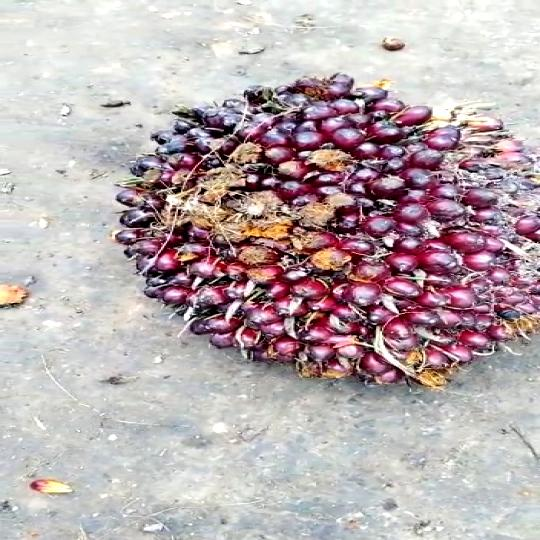kurang masak: (96, 65, 540, 409)
